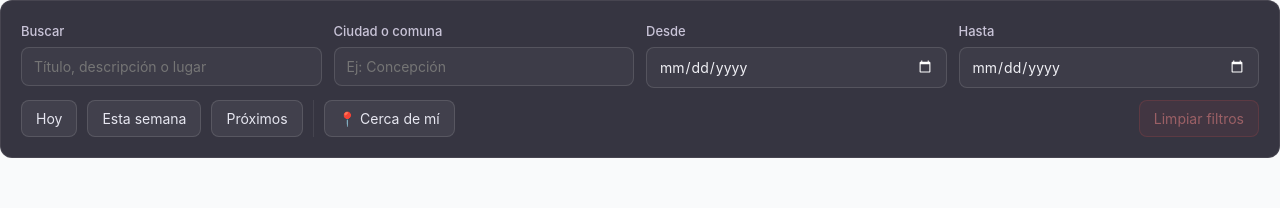
it: EventFilters — "Cerca de mí" elige la comuna más cercana › requests the position once and fills the location with the comuna
Click the button "📍 Cerca de mí": (389,118) [324,100,455,137]
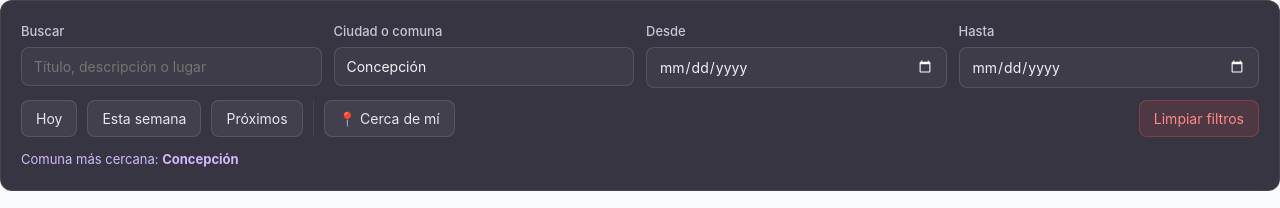
Result: the message reads "Comuna más cercana: Concepción" at [21,151,239,167]
Result: the text "Concepción" is shown at [162,151,239,167]
Result: the dropdown labelled "Ciudad o comuna" holds "Concepción" at [334,47,634,86]
